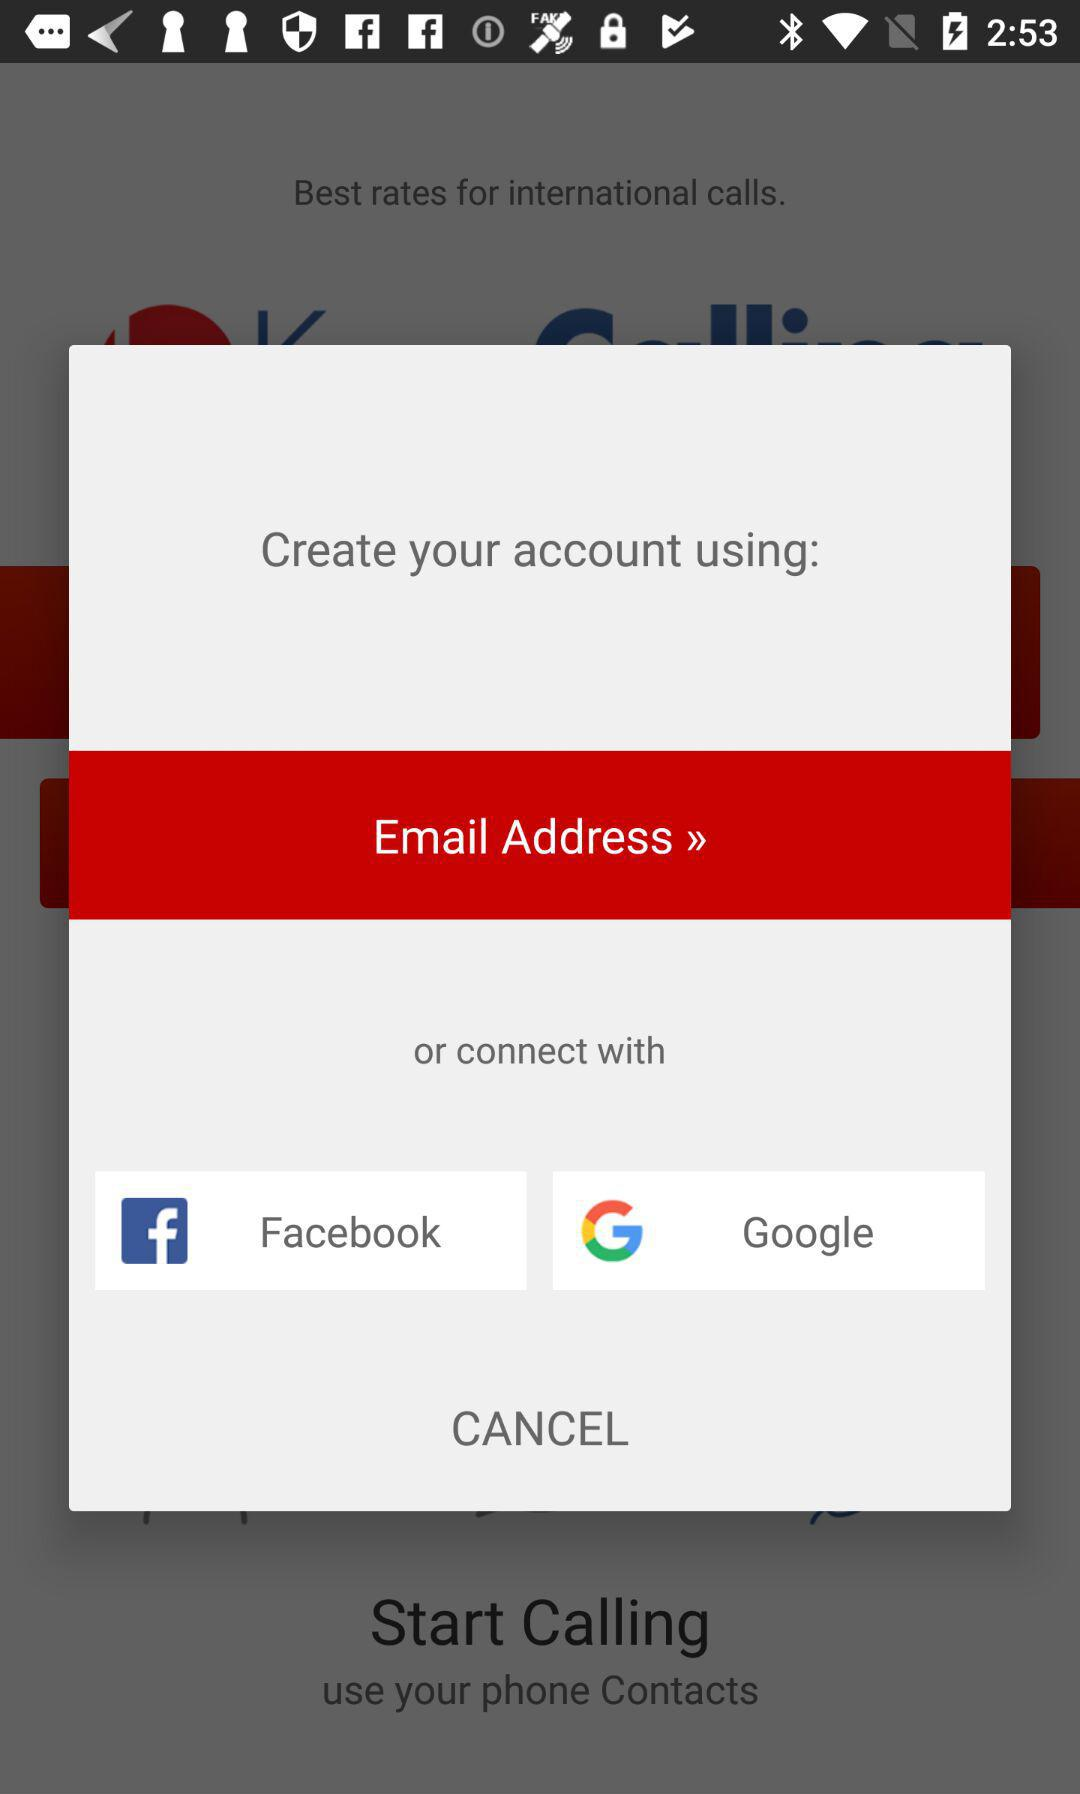Modal: (69, 345, 1012, 1512)
Text: (263, 531, 819, 578), (372, 1597, 708, 1659), (324, 1677, 758, 1715), (296, 179, 787, 208), (415, 1035, 665, 1065), (452, 1410, 632, 1447)
TextButton: (70, 750, 1011, 921), (552, 1171, 986, 1292), (95, 1171, 529, 1292)
UpperTaskBar: (1, 1, 1080, 64)
